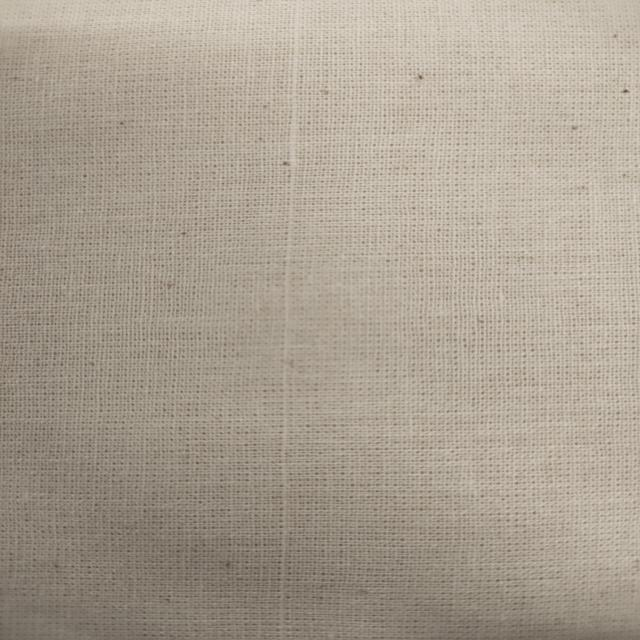Thread_other: (206, 25, 380, 640)
